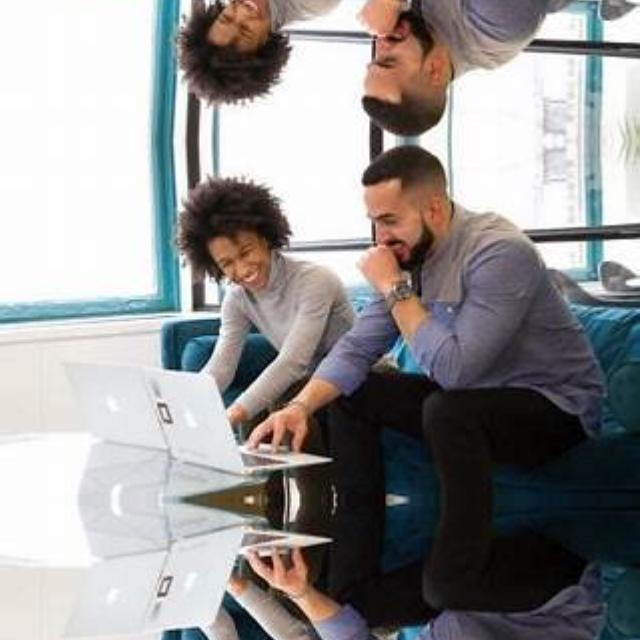person: (333, 146, 589, 494), (163, 168, 319, 416), (333, 504, 589, 640), (333, 0, 589, 134), (163, 0, 319, 112), (163, 581, 319, 640)
